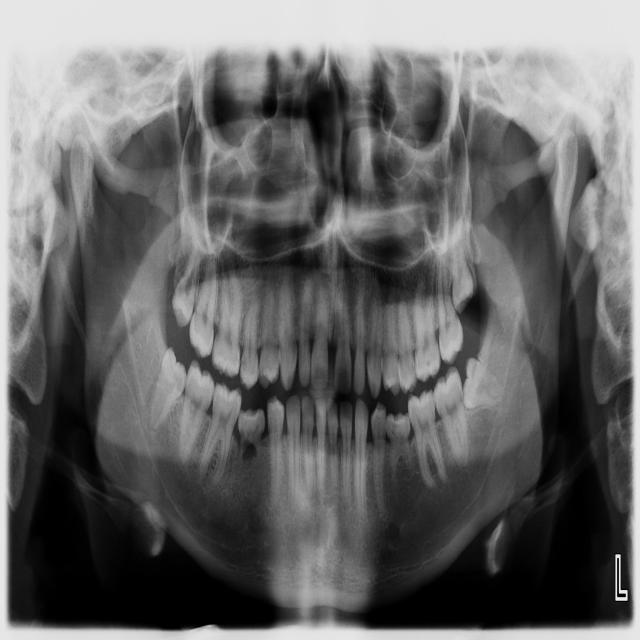mandibula: (68, 131, 580, 610)
